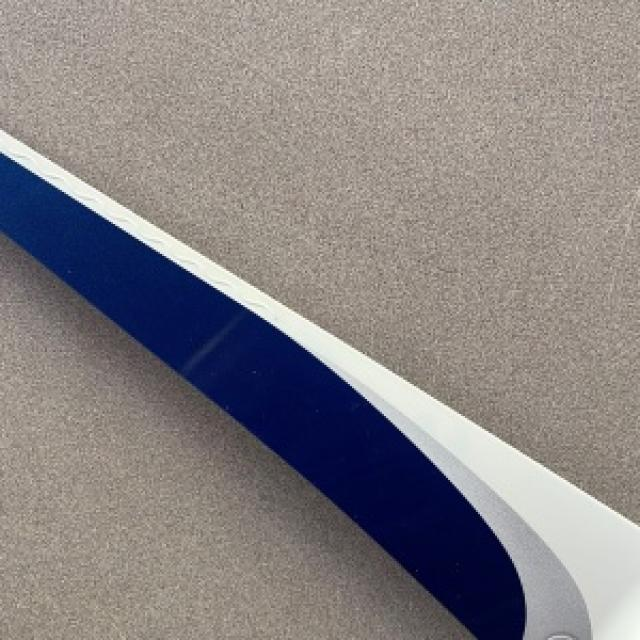healthy: (0, 0, 638, 518), (0, 237, 467, 638)
